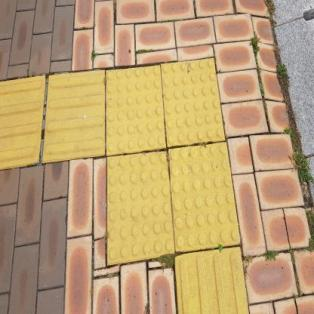Podoctatil: (0, 52, 253, 314)
